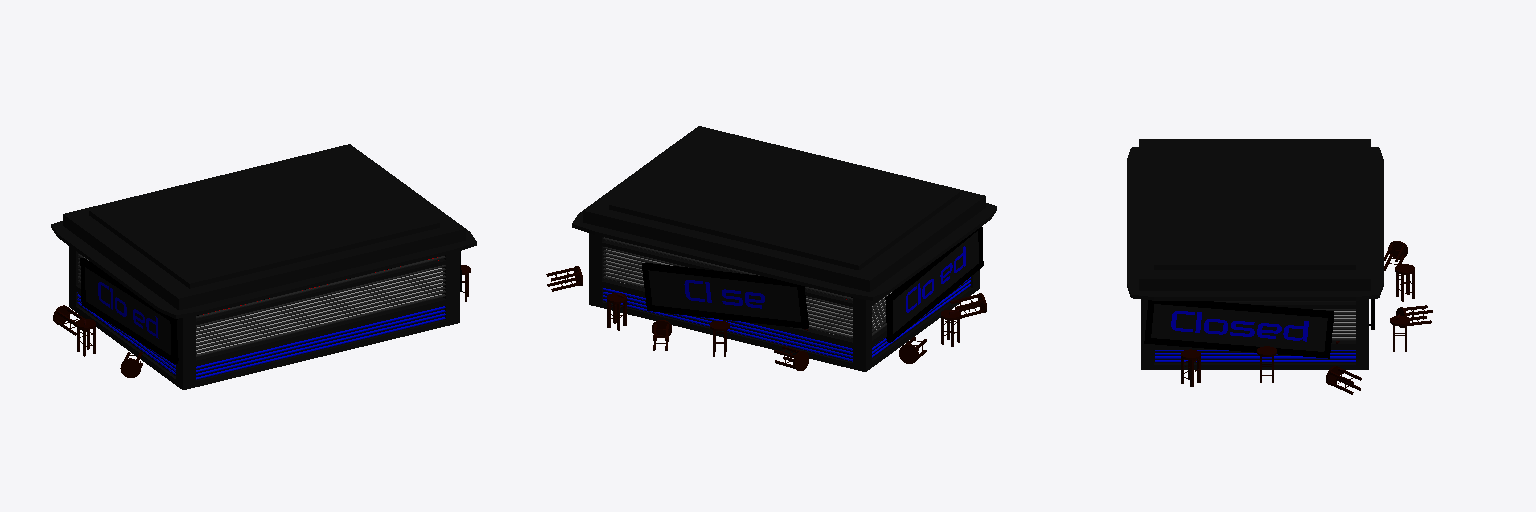
File: closed-noodle-shop.obj
The picture shows the model from 3 angles: view 1: azimuth 30°, elevation 25°; view 2: azimuth 150°, elevation 25°; view 3: azimuth 270°, elevation 25°; orthographic projection.
Parts seen in each view (by area): view 1: Cube.019_Cube.014, Vert.187_Vert.199, Cube.032_Cube.059, Vert.095_Vert.051, Vert.191_Vert.203; view 2: Cube.019_Cube.014, Cube.031_Cube.058, Cube.032_Cube.059, Vert.186_Vert.198, Vert.094_Vert.023, Text.009_Text.011; view 3: Cube.019_Cube.014, Cube.033_Cube.060, Text.011_Text.015, Vert.097_Vert.053, Vert.189_Vert.201.
Part boxes in pixels (x1,y1,x2,y2): Cube.019_Cube.014: (51,144,476,389); Vert.187_Vert.199: (196,265,445,356); Cube.032_Cube.059: (80,258,178,363); Vert.095_Vert.051: (196,306,445,379); Vert.191_Vert.203: (196,256,445,318); Cube.019_Cube.014: (572,126,996,371); Cube.031_Cube.058: (642,263,808,328); Cube.032_Cube.059: (885,227,983,342); Vert.186_Vert.198: (603,247,852,338); Vert.094_Vert.023: (603,288,852,361); Text.009_Text.011: (684,280,764,308); Cube.019_Cube.014: (1127,139,1383,369); Cube.033_Cube.060: (1144,300,1333,358); Text.011_Text.015: (1171,311,1308,341); Vert.097_Vert.053: (1155,350,1355,361); Vert.189_Vert.201: (1313,309,1355,340).
Bounding box in the file's own units: 18.74 × 4.8 × 13.43.